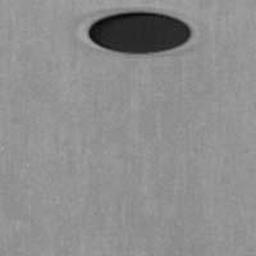Punching: (87, 10, 192, 55)
